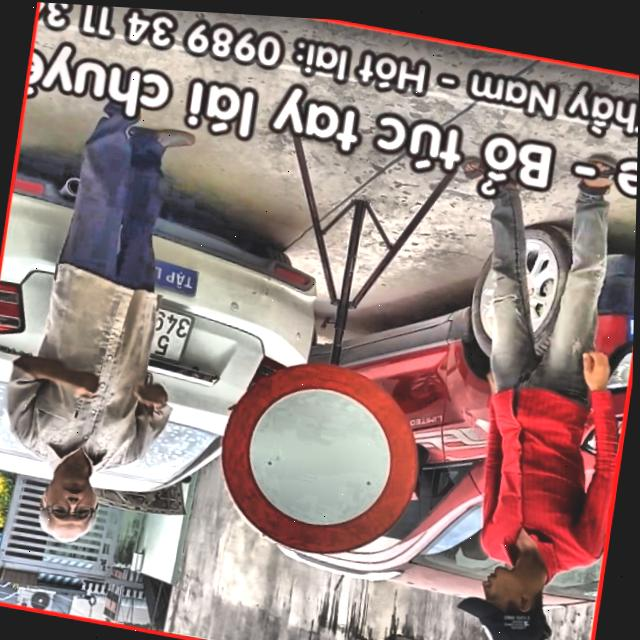Bien_bao_duong_cam: (203, 344, 433, 575)
